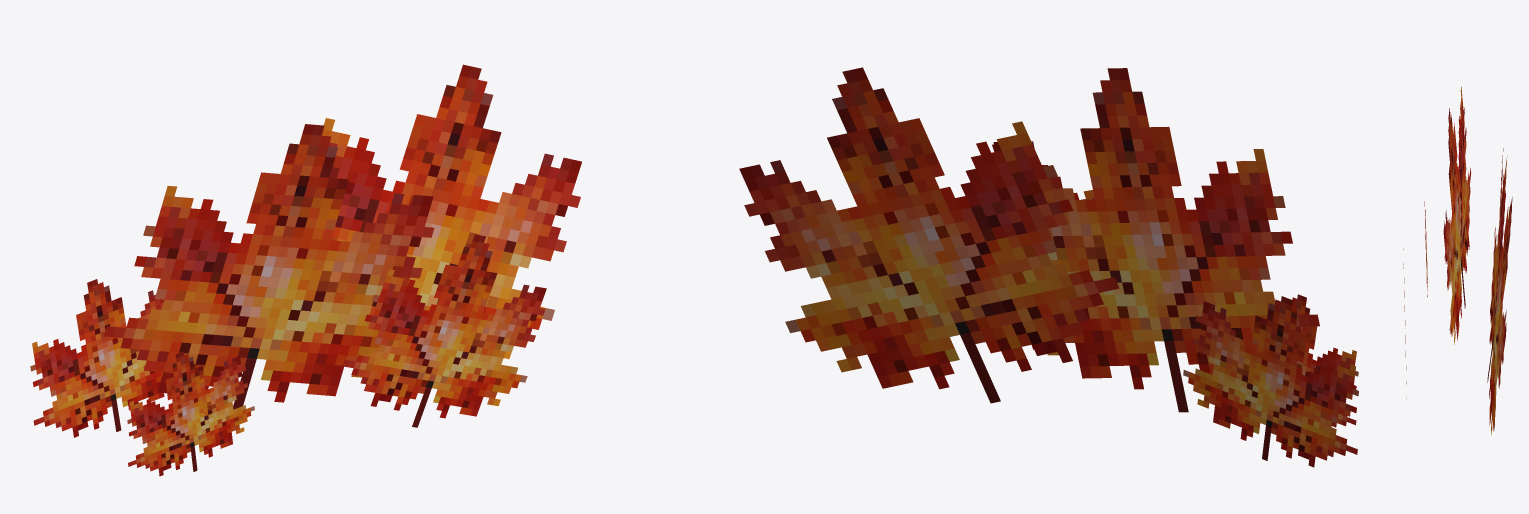
File: tree_leaves_one.glb
The picture shows the model from 3 angles, left to right: view 1: azimuth 30°, elevation 25°; view 2: azimuth 150°, elevation 25°; view 3: azimuth 270°, elevation 25°; orthographic projection. The views are drawn at different scales.
Parts seen in each view (by area): view 1: tree_leaves_one; view 2: tree_leaves_one; view 3: tree_leaves_one.
Part boxes in pixels (left/top/right/bottom): tree_leaves_one: left=30, top=64, right=581, bottom=476; tree_leaves_one: left=739, top=67, right=1358, bottom=467; tree_leaves_one: left=1403, top=86, right=1512, bottom=435.
Size of the model in its own units: 0.7653 by 0.519 by 0.1524.
Materials: 1 (1 with a texture image).
